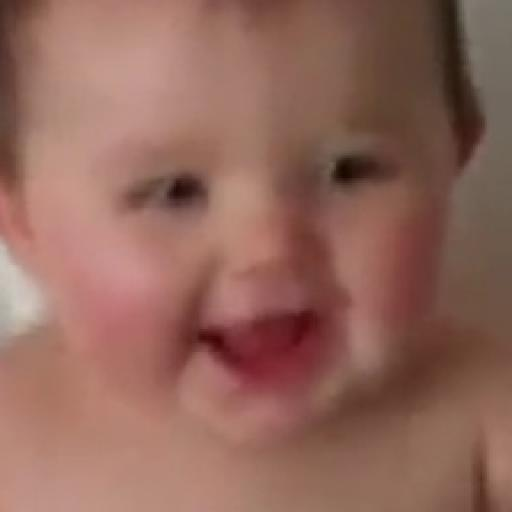Autism: (50, 22, 407, 400)
